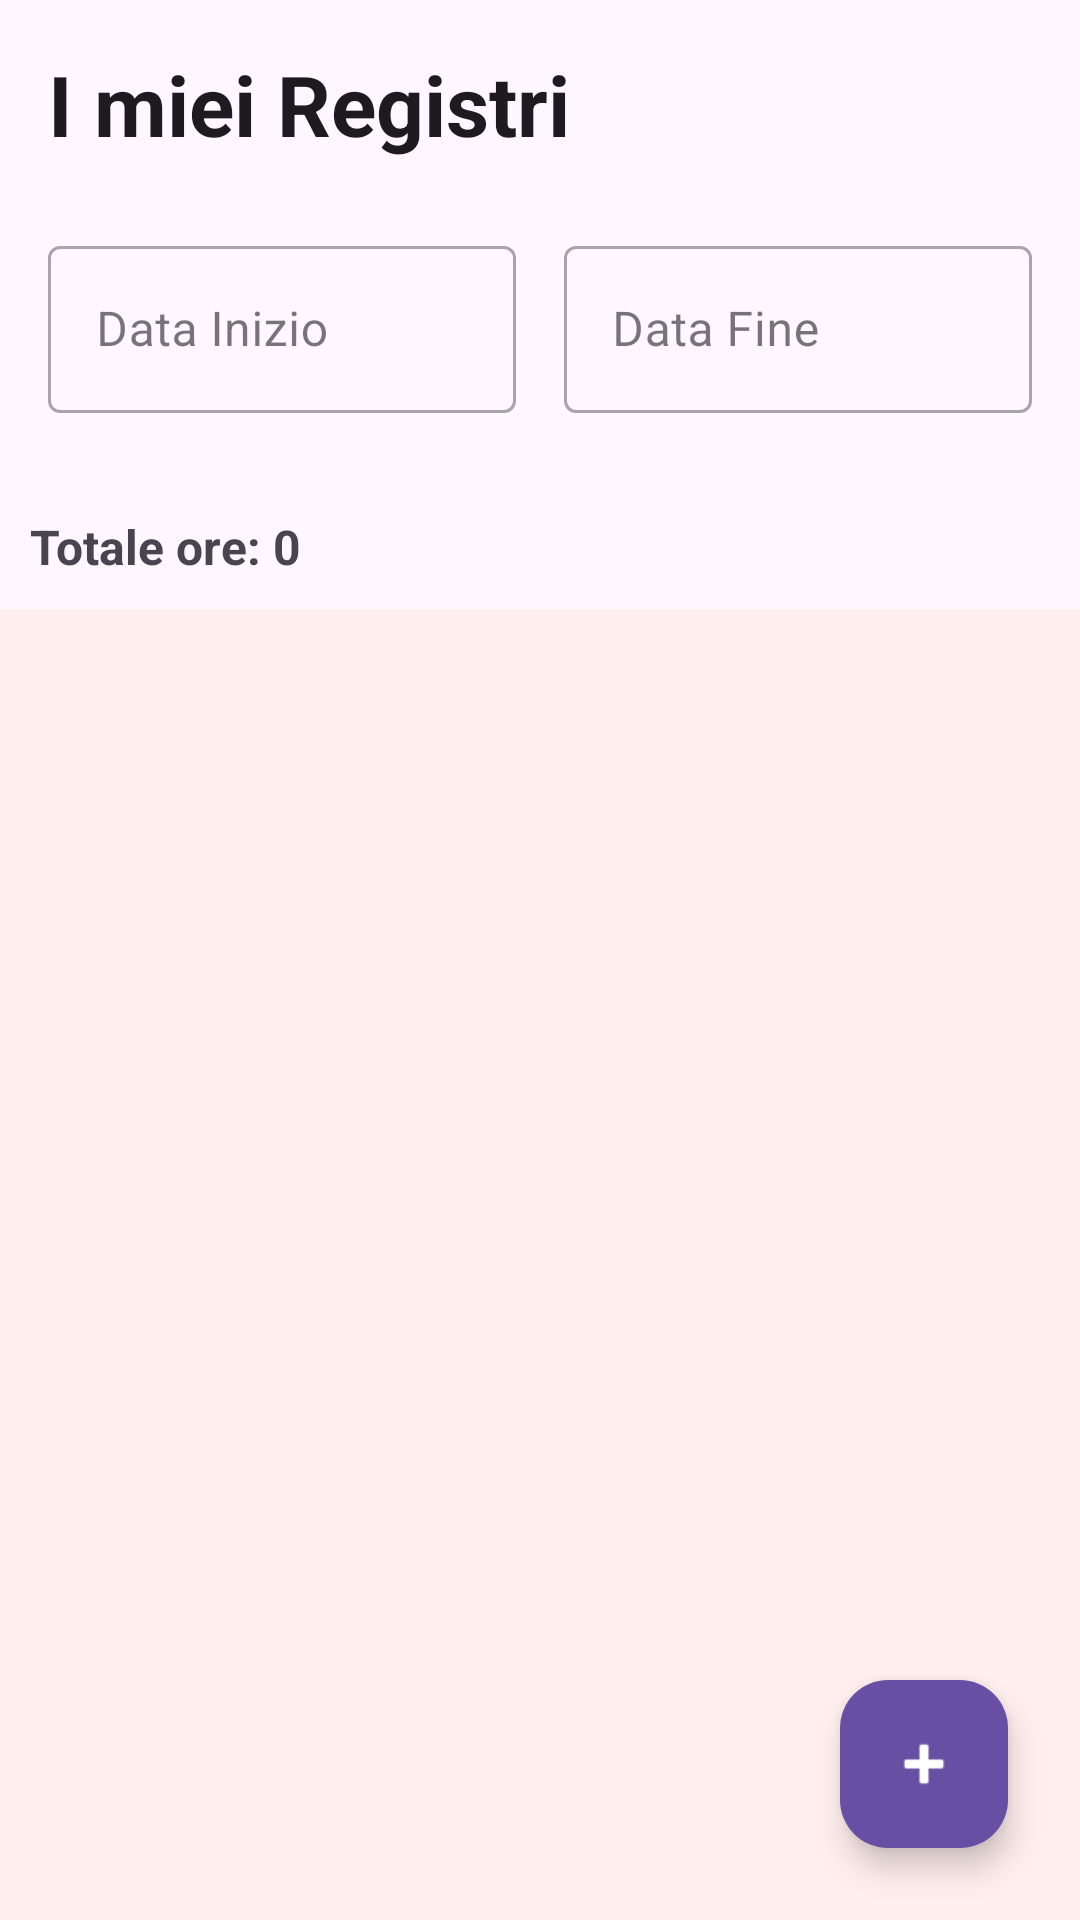

Screen size 1080px×1920px. Icon name, then its box in pixels as (x1, y1, x2, y2):
Aggiungi ore: (840, 1680, 1008, 1848)
